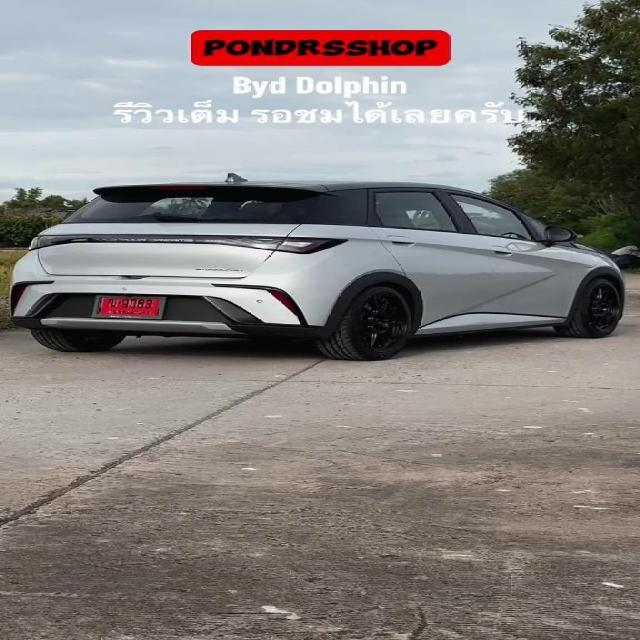Hatchback: (10, 174, 624, 361)
